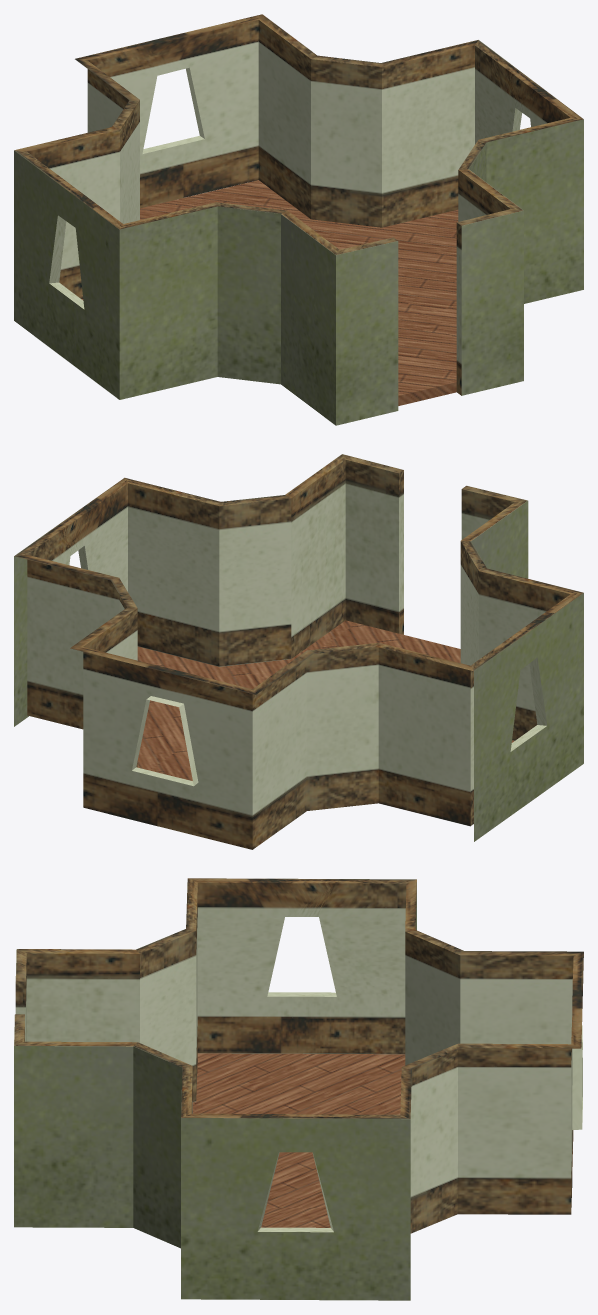
Rendered from HouseInterior_1x1.fbx.
The picture shows the model from 3 angles, top to bottom: view 1: azimuth 30°, elevation 25°; view 2: azimuth 150°, elevation 25°; view 3: azimuth 270°, elevation 25°; orthographic projection. The views are drawn at different scales.
Visible parts, largest first — view 1: pared_lv3_011, pared_lv2_012, pared_lv1_017, pared_lateral_02, suelo_01, pared_lv1_016, pared_lv2_011, pared_lateral_01; view 2: pared_lv3_011, pared_lv2_011, pared_lateral_02, pared_lv1_016, pared_lv2_012, suelo_01, pared_lateral_01, pared_lv1_017; view 3: pared_lv3_011, pared_lateral_01, pared_lateral_02, pared_lv1_016, suelo_01, pared_lv1_017, pared_lv2_011, pared_lv2_012.
Boxes of the visible parts, x1,y1,x2,y2 form: pared_lv3_011: (15,14,478,298); pared_lv2_012: (119,202,286,399); pared_lv1_017: (281,210,398,425); pared_lateral_02: (14,150,122,399); suelo_01: (81,180,458,405); pared_lv1_016: (456,169,523,395); pared_lv2_011: (459,117,583,303); pared_lateral_01: (475,40,583,144); pared_lv3_011: (14,554,473,849); pared_lv2_011: (125,478,291,666); pared_lateral_02: (470,593,583,841); pared_lv1_016: (285,454,403,658); pared_lv2_012: (460,541,583,740); suelo_01: (137,620,514,780); pared_lateral_01: (14,478,127,726); pared_lv1_017: (461,485,528,578); pared_lv3_011: (400,879,583,1233); pared_lateral_01: (181,1113,410,1300); pared_lateral_02: (188,878,416,1054); pared_lv1_016: (14,1014,136,1227); suelo_01: (192,1053,573,1227); pared_lv1_017: (15,949,139,1042); pared_lv2_011: (133,1042,192,1248); pared_lv2_012: (136,878,197,1102).
Bounding box in the file's own units: 4655 × 1635 × 4655.
